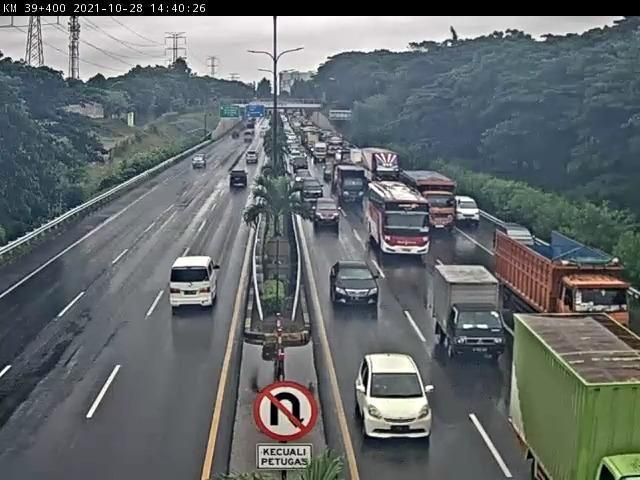car: (349, 349, 438, 437), (166, 252, 226, 324), (327, 260, 385, 311), (501, 220, 546, 259), (455, 189, 488, 234), (310, 196, 342, 231), (297, 179, 326, 204), (227, 168, 249, 192), (342, 269, 345, 270)
truck: (430, 264, 509, 363)
